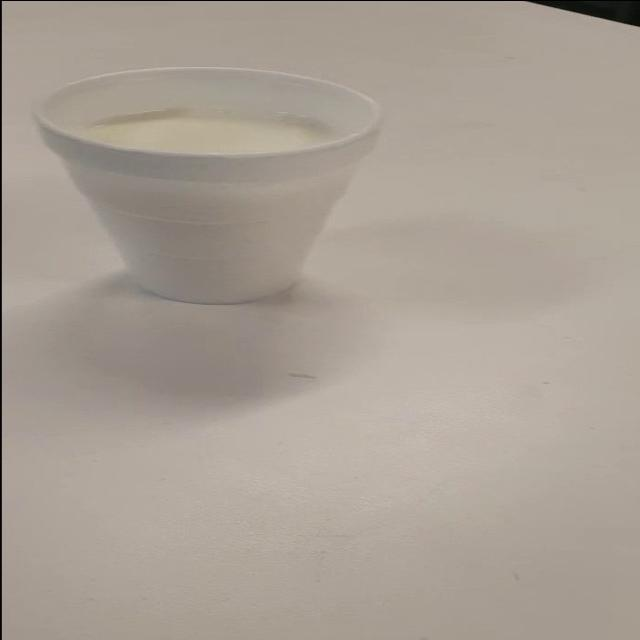Milk: (13, 53, 417, 329)
